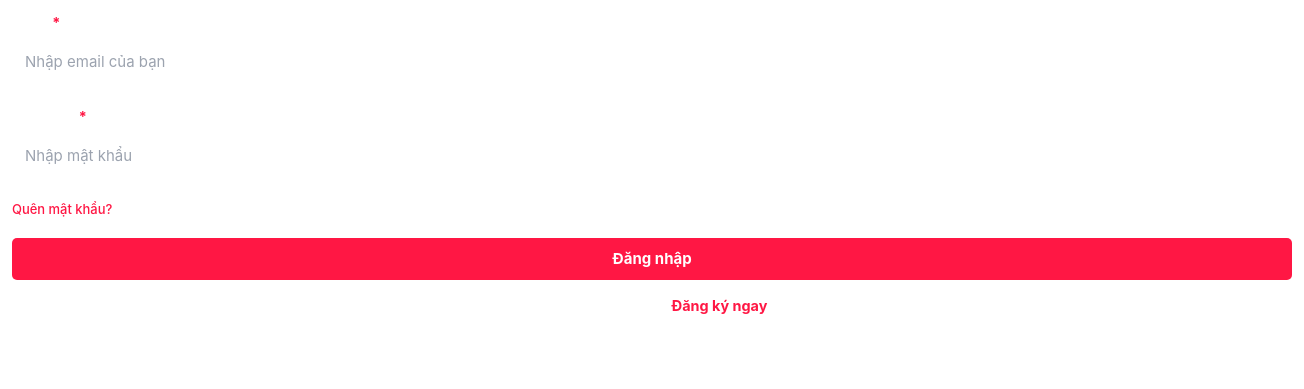
Test: LoginForm Component › clears errors when user starts typing
This screenshot has width=1304, height=389.
Note: Trigger validation error
Click the button "Đăng nhập". click: (652, 259)
box: [12,238,1292,280]
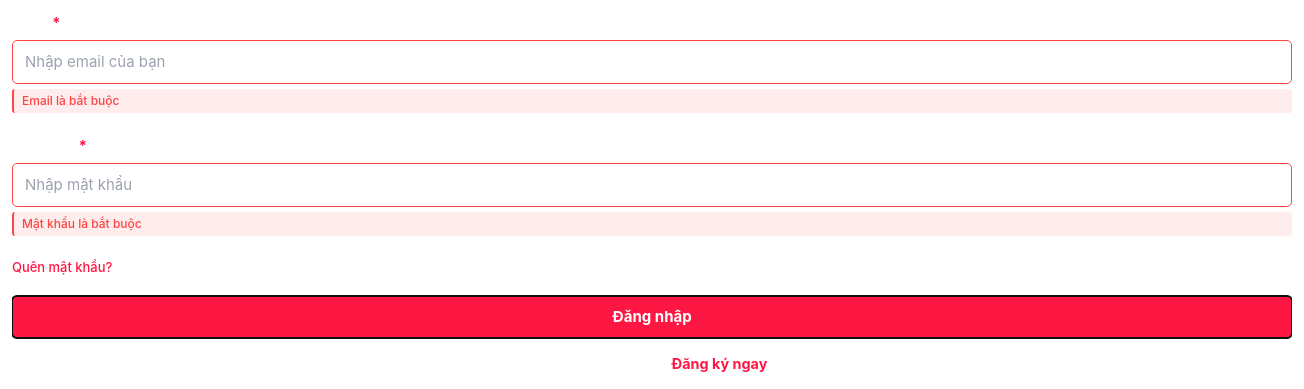
Result: the text "Email là bắt buộc" is shown at [12,89,1292,113]
Note: Type in email field
Type "test@example.com" into the field labelled "Email*". click: (652, 62)
box: [12,40,1292,84]
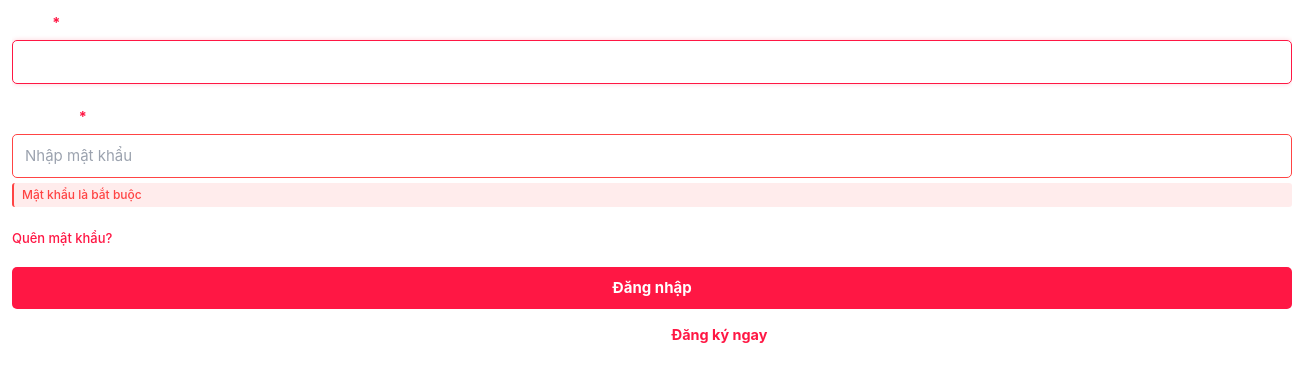
Result: the text "Email là bắt buộc" is gone
